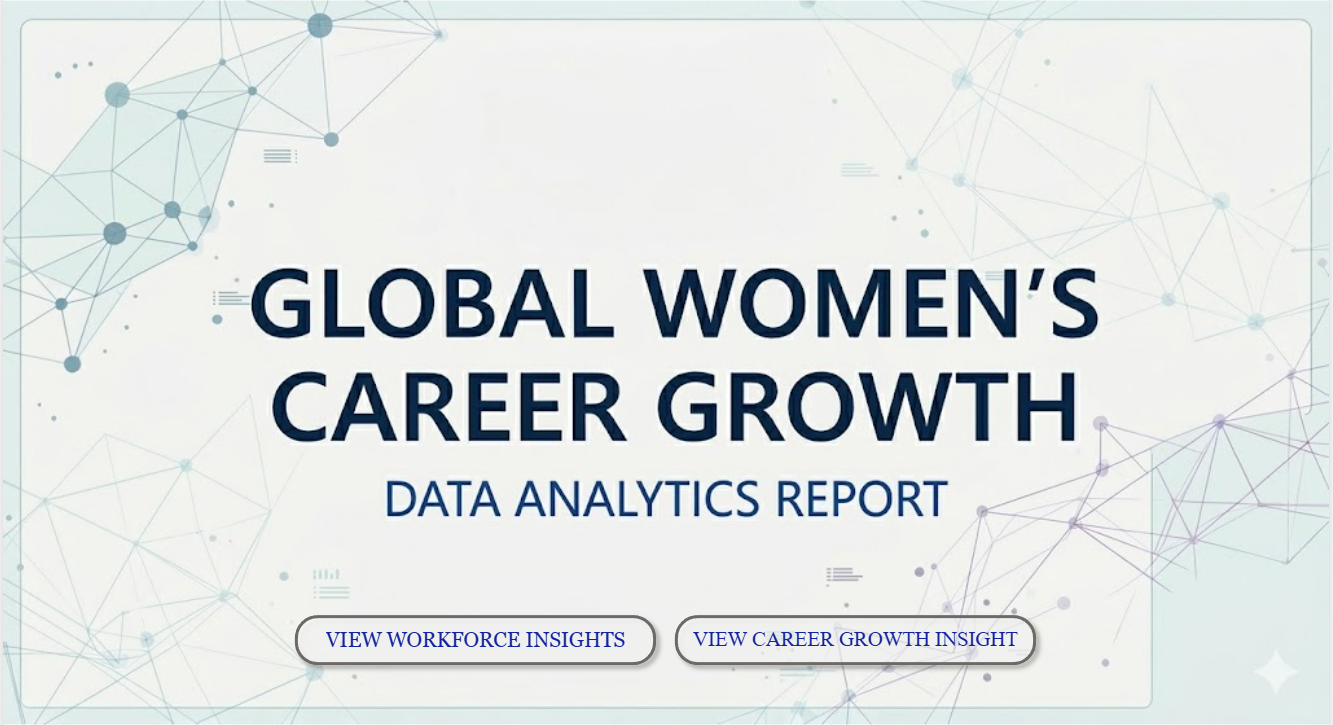

What the dashboard file says about the page in this screenshot:
{"tool":"powerbi","page":{"name":"CoverPg","canvas":[1280,720],"ordinal":0},"visuals":[{"type":"actionButton","box":[272.7,592.4,366.8,66.4],"z":0},{"type":"actionButton","box":[639.4,592.4,366.8,66.4],"z":1000}]}

Visuals, with their boxes on the page's 1280x720 design canvas (x1, y1, x2, y2). These are canvas units, not pixel positions in the 1333x725 screenshot, which may show the page scaled, cropped or inside an application window:
actionButton: 273,592,640,659
actionButton: 639,592,1006,659
